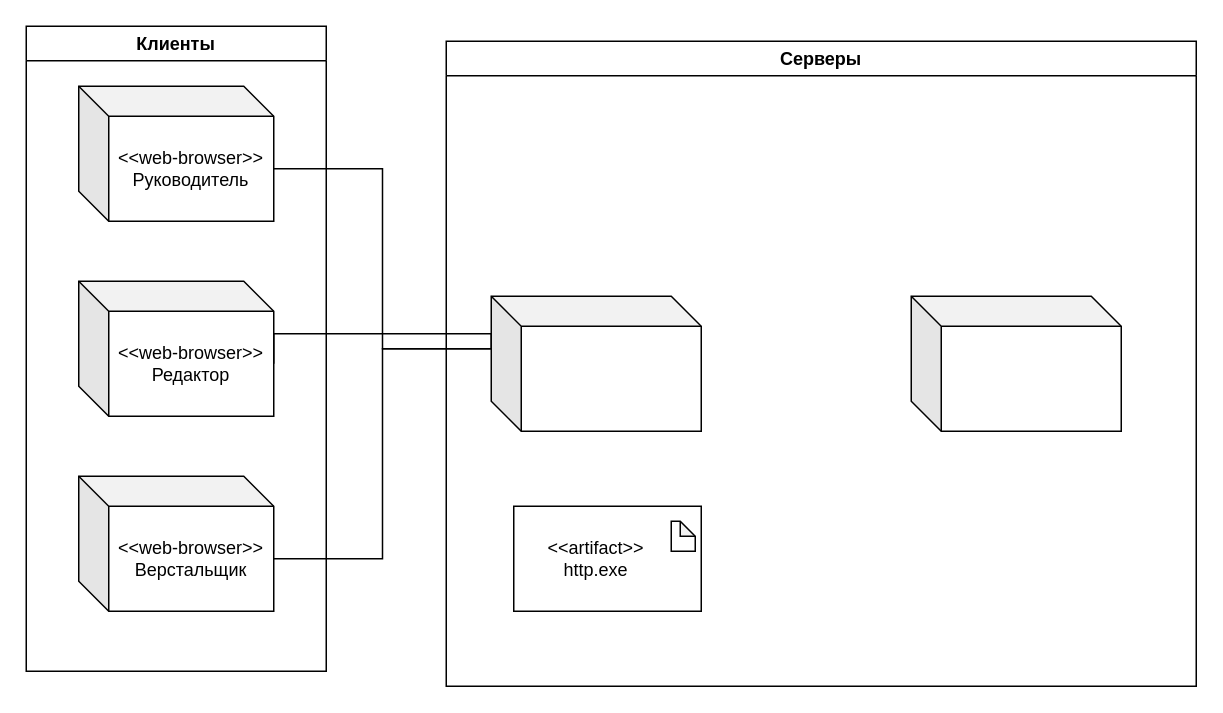
Some shapes in this 1223 by 713 pixel diagram are drawn without their labels. Each missing label, with the centre of its shape:
<<processor>> Сервер базы данных: the point at 1015,363
<<processor>> Сервер приложения: the point at 595,363
